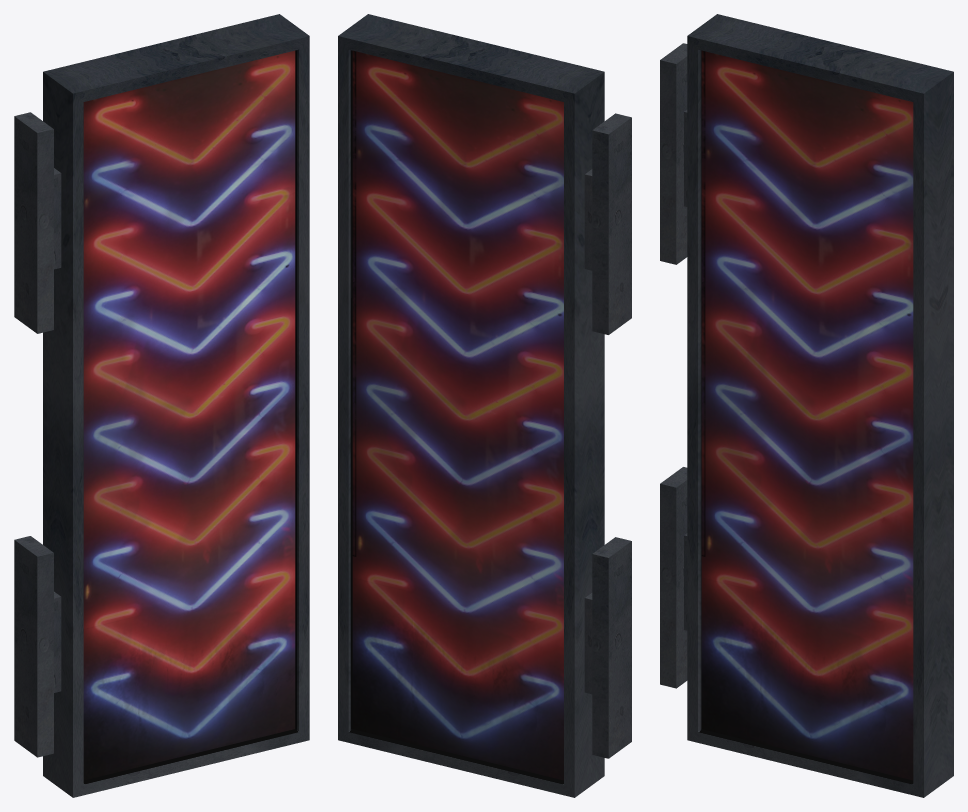
The model's file is Neon_Sign_E.FBX.
3 views of the same model, side by side, from view 1: azimuth 30°, elevation 25°; view 2: azimuth 150°, elevation 25°; view 3: azimuth 330°, elevation 25° (orthographic).
Parts seen in each view (by area): view 1: Sign_E, Sign_WallMounting; view 2: Sign_E, Sign_WallMounting; view 3: Sign_E, Sign_WallMounting.
Part boxes in pixels (box(x1,y1,x2,y2)): Sign_E: box(43, 14, 309, 797); Sign_WallMounting: box(14, 112, 61, 757); Sign_E: box(338, 14, 604, 797); Sign_WallMounting: box(584, 113, 631, 758); Sign_E: box(687, 14, 953, 797); Sign_WallMounting: box(660, 43, 687, 688).
Size of the model in its own units: 60.38 by 152 by 11.73.
